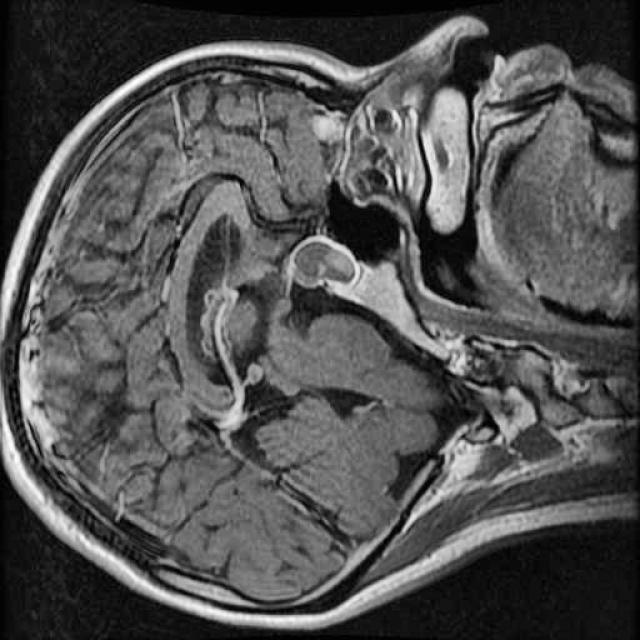Tumor: (274, 221, 369, 304)
